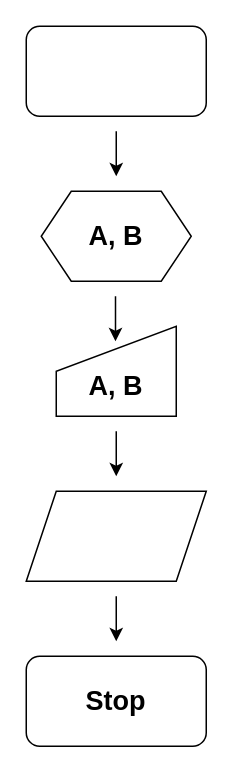
Some shapes in this 233 by 773 pixel diagram are drawn without their labels. The centre of each missing label's shape, as x and y in pixels:
Print A-B: the point at 115,535
Start: the point at 115,70
